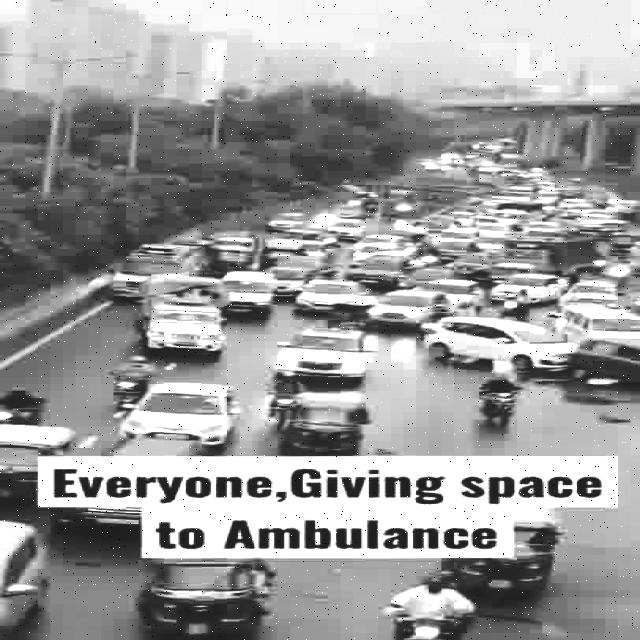Ambulance: (108, 242, 207, 296)
